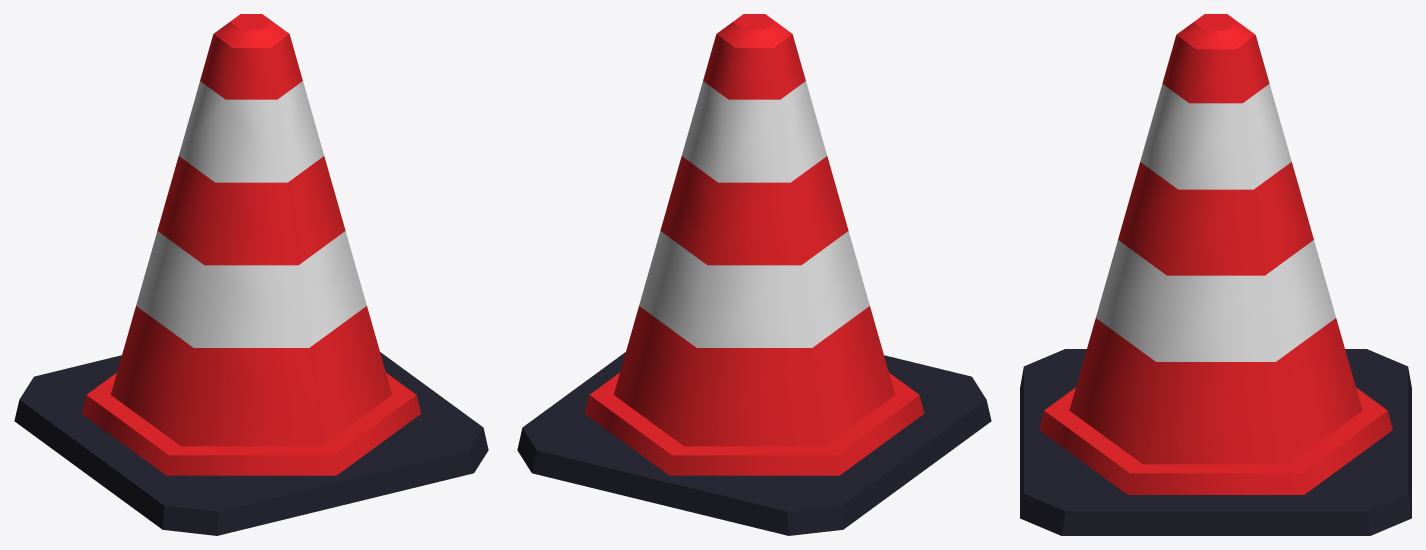
3 views of the same model, side by side, from view 1: azimuth 30°, elevation 25°; view 2: azimuth 150°, elevation 25°; view 3: azimuth 270°, elevation 25° (orthographic). The views are drawn at different scales.
Visible parts, largest first — view 1: Cone_1; view 2: Cone_1; view 3: Cone_1.
Boxes of the visible parts, x1,y1,x2,y2 form: Cone_1: (14,14,488,535); Cone_1: (517,14,991,535); Cone_1: (1020,14,1411,535).
Bounding box in the file's own units: 65.53 × 79.49 × 65.53.
